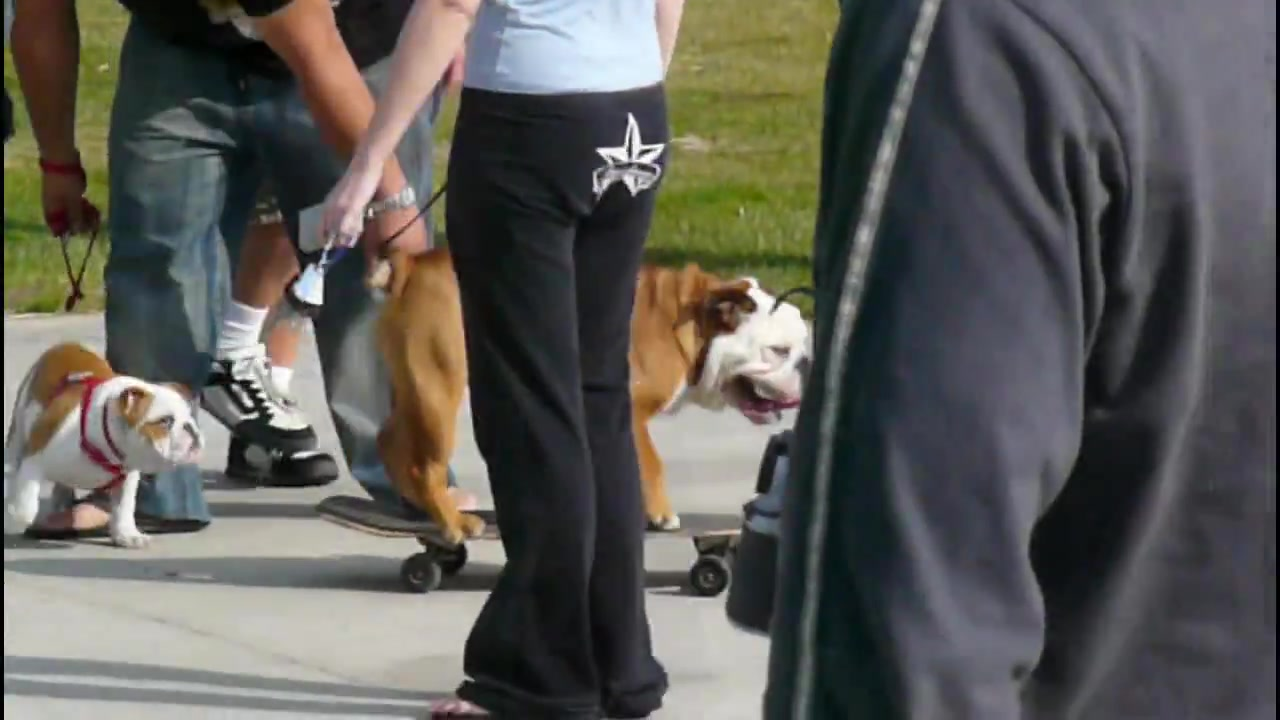dog: (4, 332, 204, 553)
